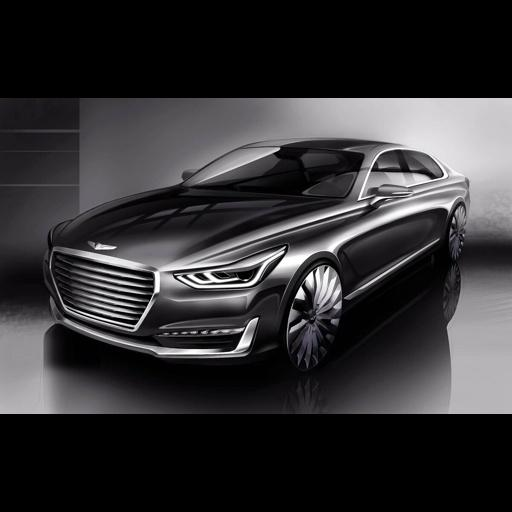sedan: (44, 138, 469, 368)
